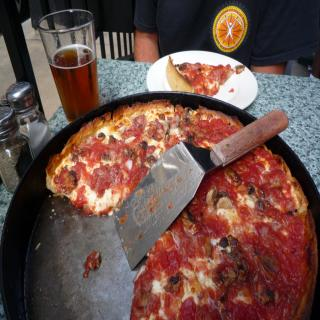Pizza: (127, 209, 250, 318), (190, 211, 314, 316), (44, 113, 154, 210), (192, 140, 307, 215), (114, 97, 172, 162), (176, 99, 248, 143), (168, 52, 240, 92)
